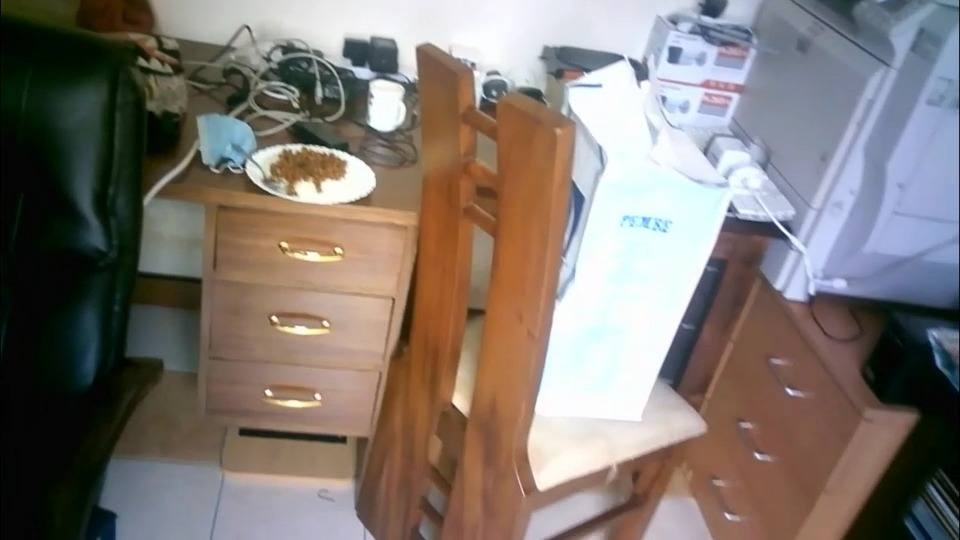wheat_flour_blue_label: (567, 62, 728, 426)
